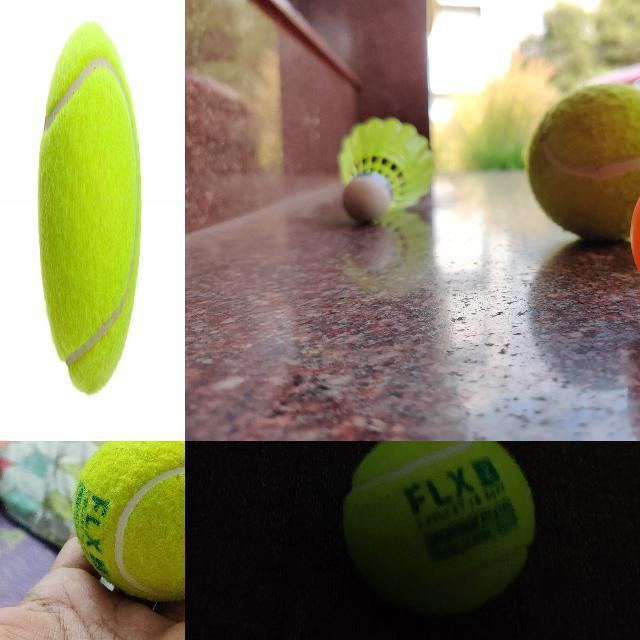tennis-ball: (38, 20, 142, 395), (341, 441, 535, 616), (70, 441, 184, 602), (523, 84, 629, 243)
